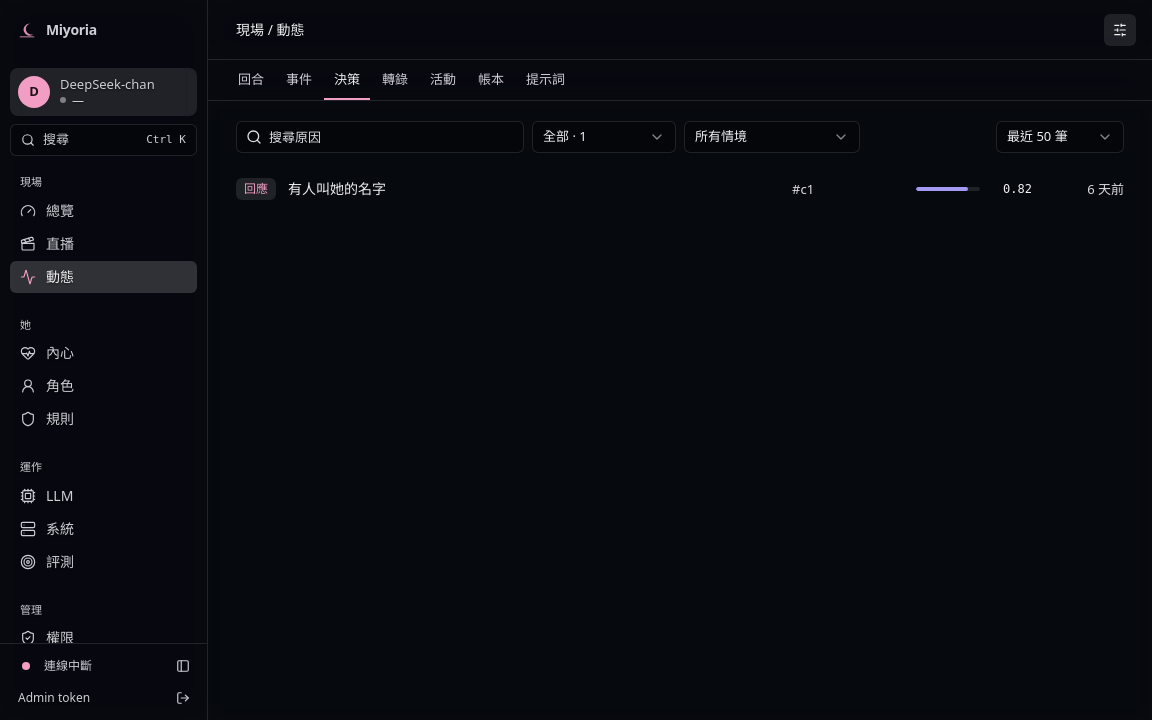
Test case: Activity: the prompt of each turn › keeps working on a Core without the new routes
The image size is (1152, 720).
What coordinates should you click on to do the following:
click the button "回應 有人叫她的名字 #c1 0.82 6 天前"
I would click on:
 (256, 189)
Its box is x1=236 y1=169 x2=1124 y2=209.
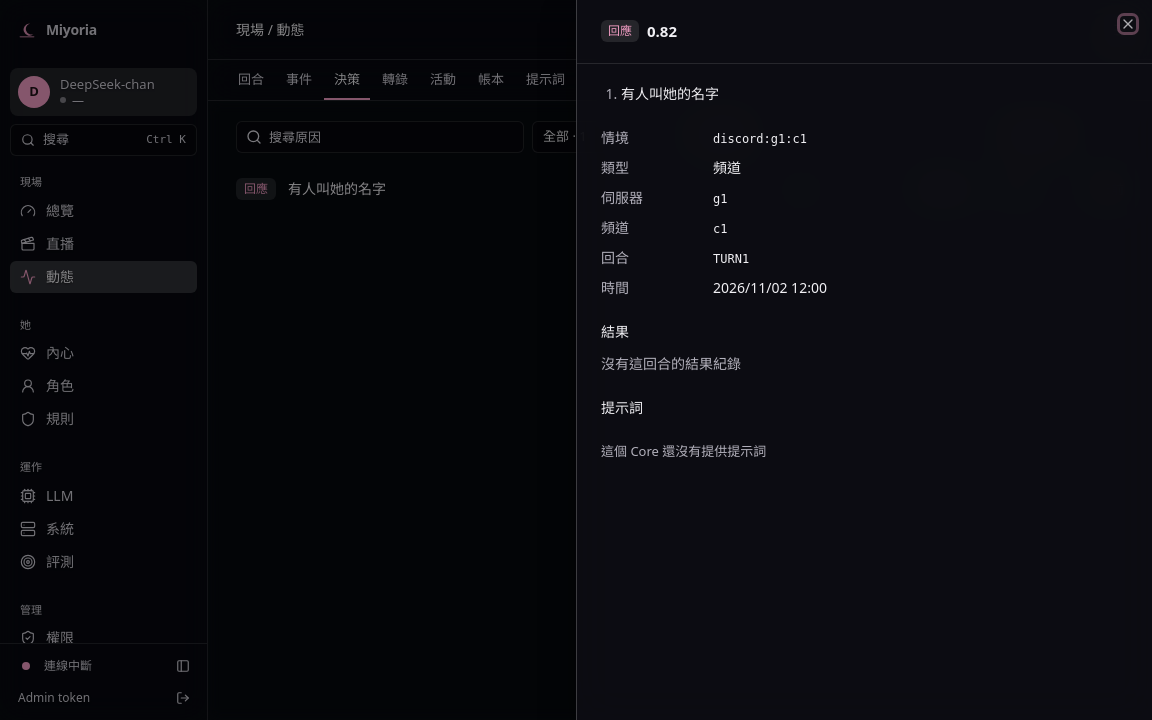
Expected: the text "沒有這回合的結果紀錄" is shown, x1=601 y1=354 x2=741 y2=372
Expected: the text "這個 Core 還沒有提供提示詞" is shown, x1=601 y1=442 x2=766 y2=460
